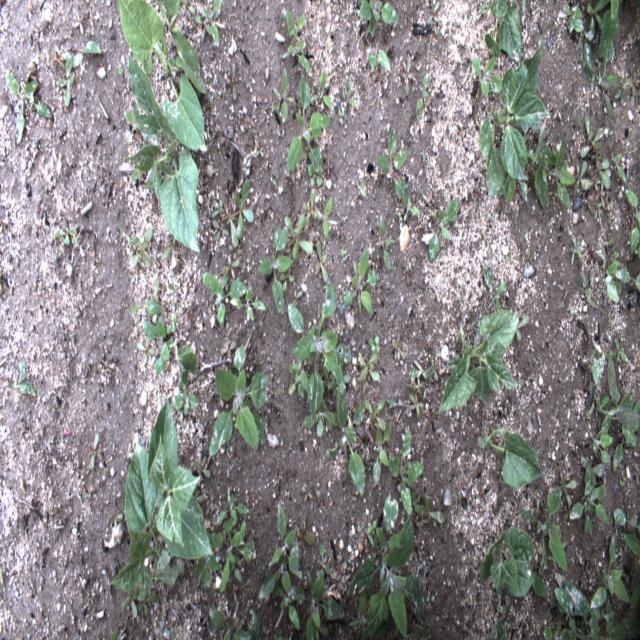crop: (117, 0, 207, 254), (479, 35, 547, 204), (437, 281, 522, 415), (210, 342, 266, 455), (476, 525, 552, 604), (478, 426, 546, 490), (482, 2, 522, 68), (488, 615, 509, 640)
weed: (110, 399, 211, 611), (286, 280, 351, 444), (543, 536, 640, 639), (136, 272, 202, 417), (347, 495, 425, 614), (581, 338, 639, 470), (257, 188, 318, 312), (282, 540, 346, 638), (193, 491, 254, 590), (259, 502, 302, 640), (284, 74, 332, 180), (534, 129, 594, 212), (520, 488, 568, 571), (6, 70, 53, 147), (580, 34, 620, 124), (203, 266, 261, 328), (376, 125, 417, 212), (50, 38, 102, 106), (564, 461, 610, 536), (390, 427, 429, 515), (211, 179, 254, 252), (323, 426, 365, 494), (585, 113, 612, 216), (342, 246, 380, 316), (426, 197, 458, 260), (602, 247, 636, 305), (286, 7, 312, 74), (182, 0, 221, 44), (472, 52, 507, 101), (210, 607, 262, 639), (598, 1, 622, 68), (358, 0, 399, 37), (270, 66, 296, 123), (614, 508, 640, 558), (9, 358, 39, 399), (355, 396, 387, 434), (373, 419, 390, 485), (126, 229, 152, 268), (359, 338, 381, 383), (416, 494, 445, 528), (314, 65, 334, 112), (411, 356, 442, 384), (53, 218, 80, 247), (587, 0, 606, 40), (378, 218, 392, 269), (314, 238, 329, 285), (405, 387, 424, 422), (416, 75, 430, 121), (390, 330, 408, 364), (564, 2, 584, 31), (321, 193, 333, 241), (629, 208, 640, 260), (367, 47, 391, 70), (193, 453, 211, 479), (614, 151, 626, 184), (403, 54, 411, 98), (570, 237, 582, 266), (625, 188, 639, 206)
